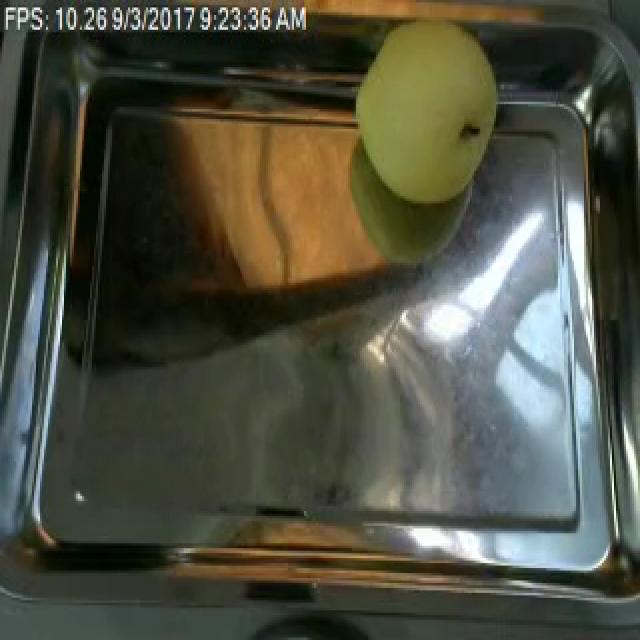Fruit: (150, 45, 430, 312), (346, 8, 510, 218)
